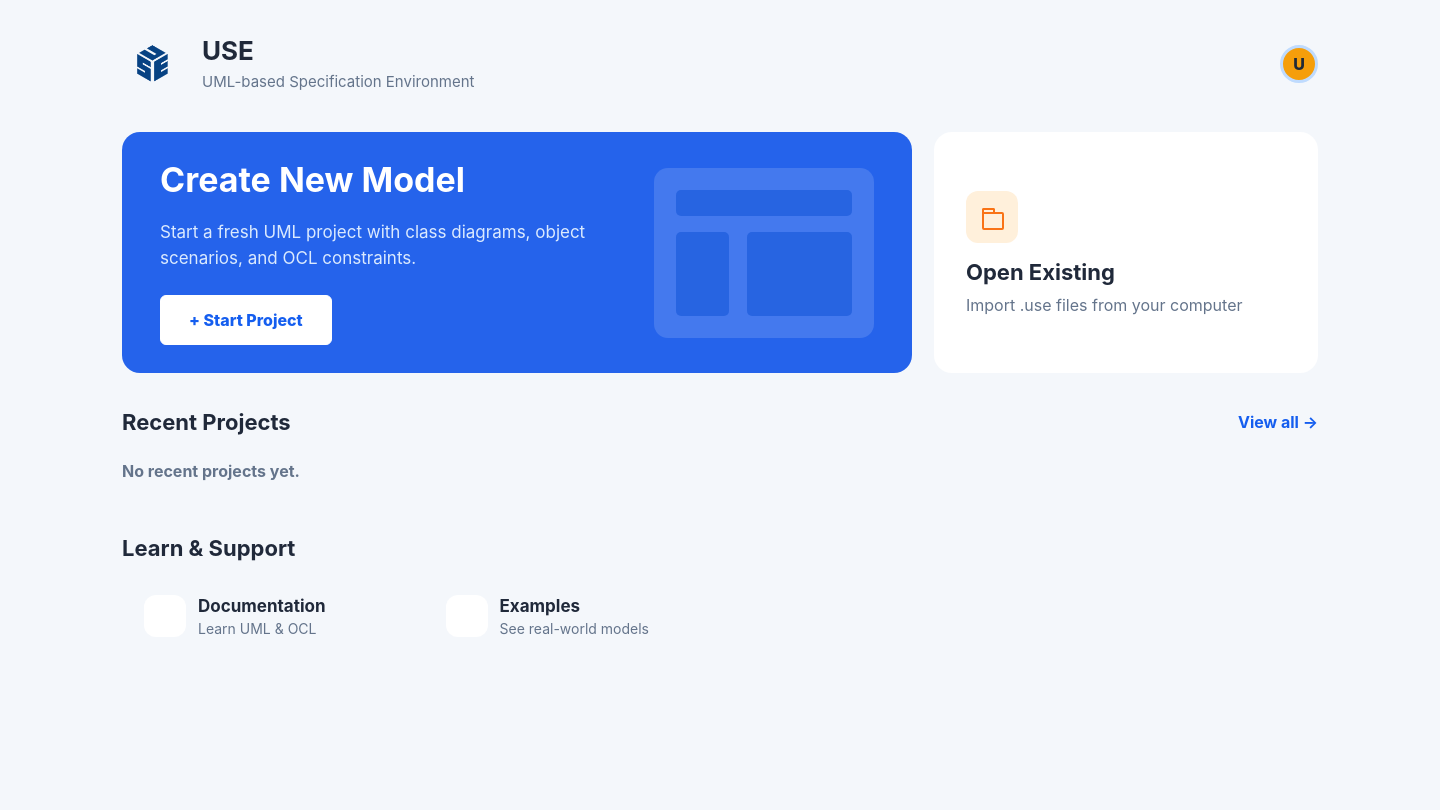
Test case: App › shows a create project dialog error when project creation fails
Click the button "+ Start Project". click: (246, 320)
box: [160, 296, 332, 346]
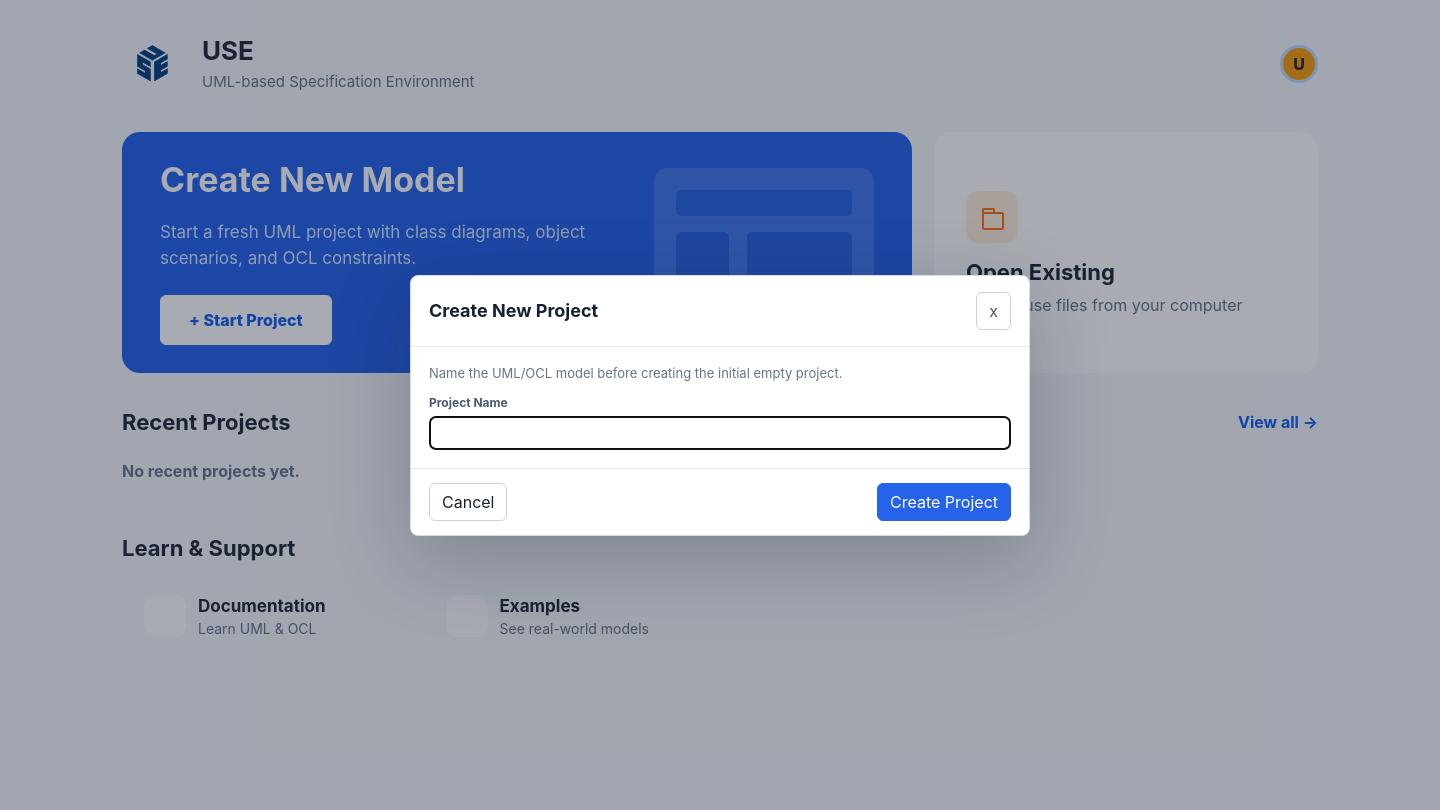
Type "Library Model" into the field labelled "Project Name". click: (720, 432)
box: [429, 416, 1011, 450]
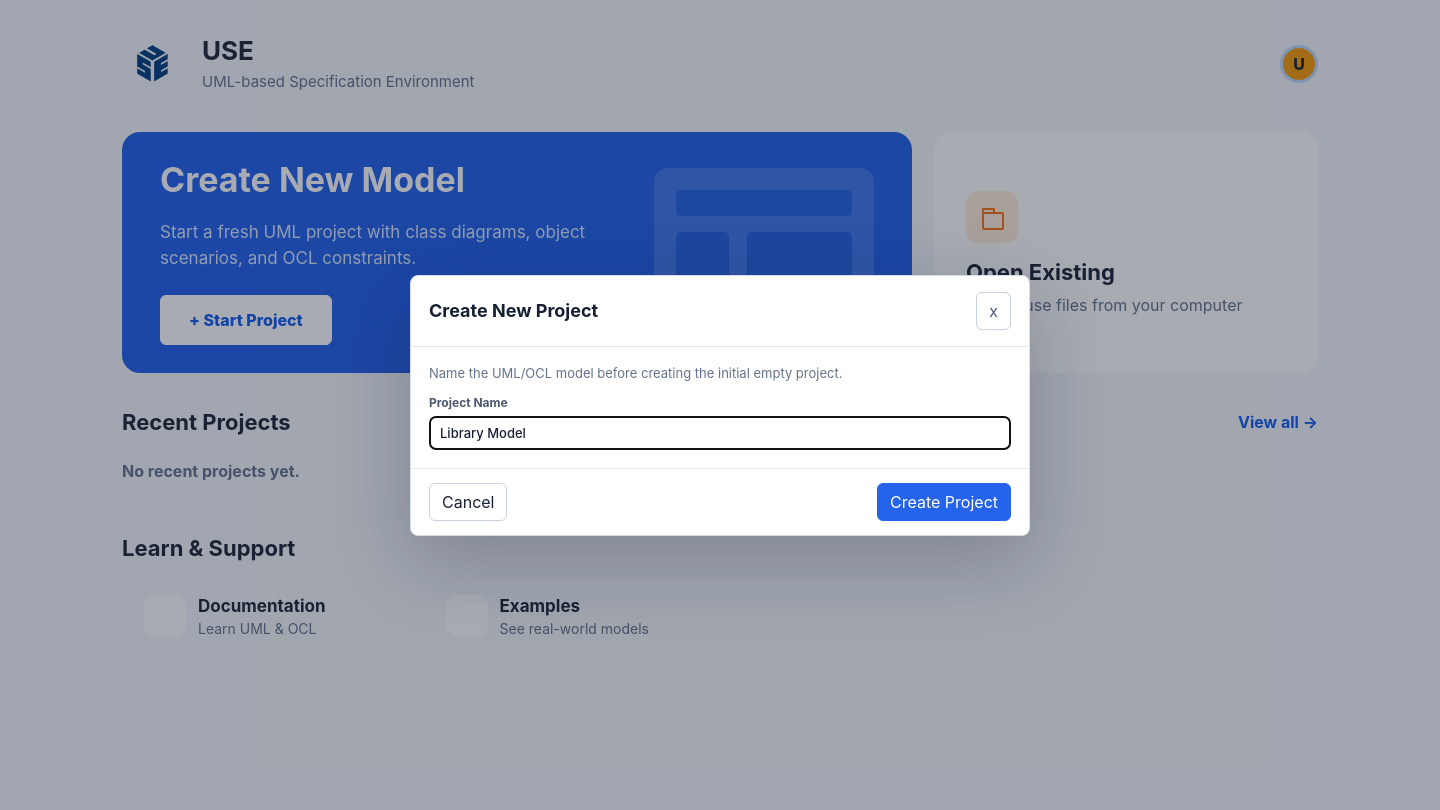
Click the button "Create Project". click: (944, 502)
box: [877, 482, 1011, 520]
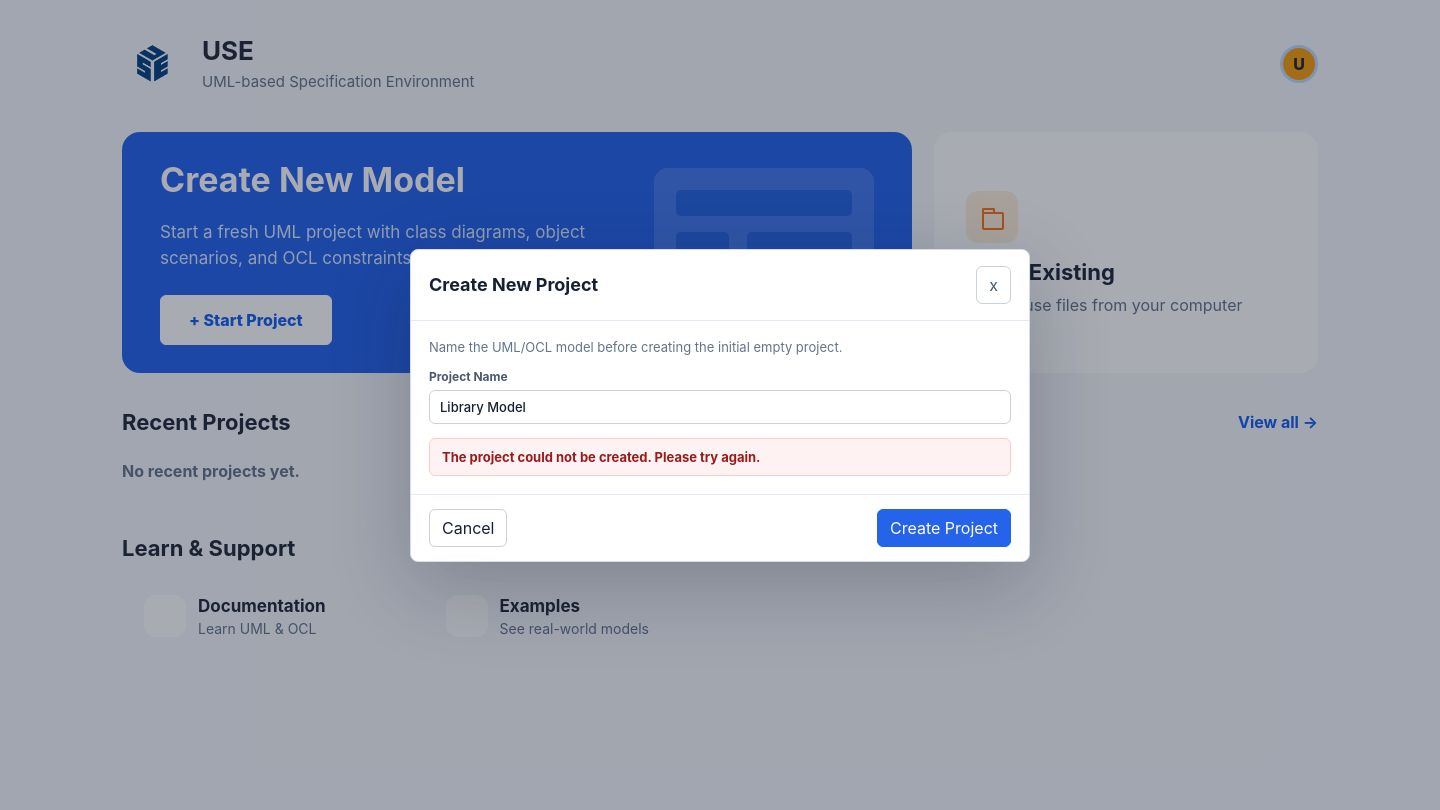
Check: the message reads "The project could not be created. Please try again.", box [442, 448, 760, 464]
